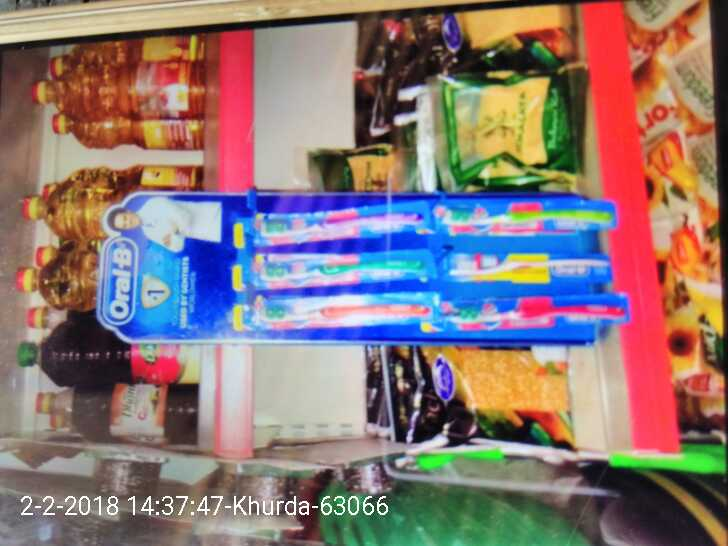oralb: (227, 292, 434, 333), (439, 291, 634, 332), (237, 207, 435, 245), (235, 254, 434, 288), (432, 203, 620, 236), (438, 250, 615, 282)
